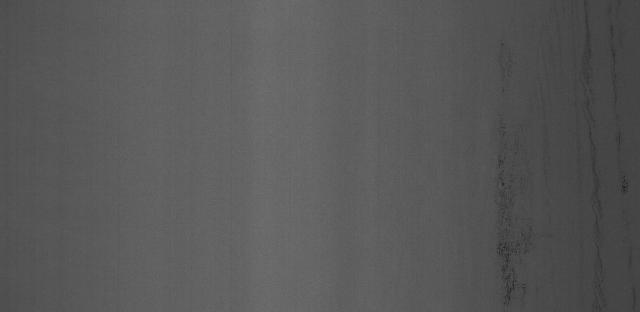inclusion: (483, 118, 539, 297)
water_spot: (576, 19, 609, 292)
